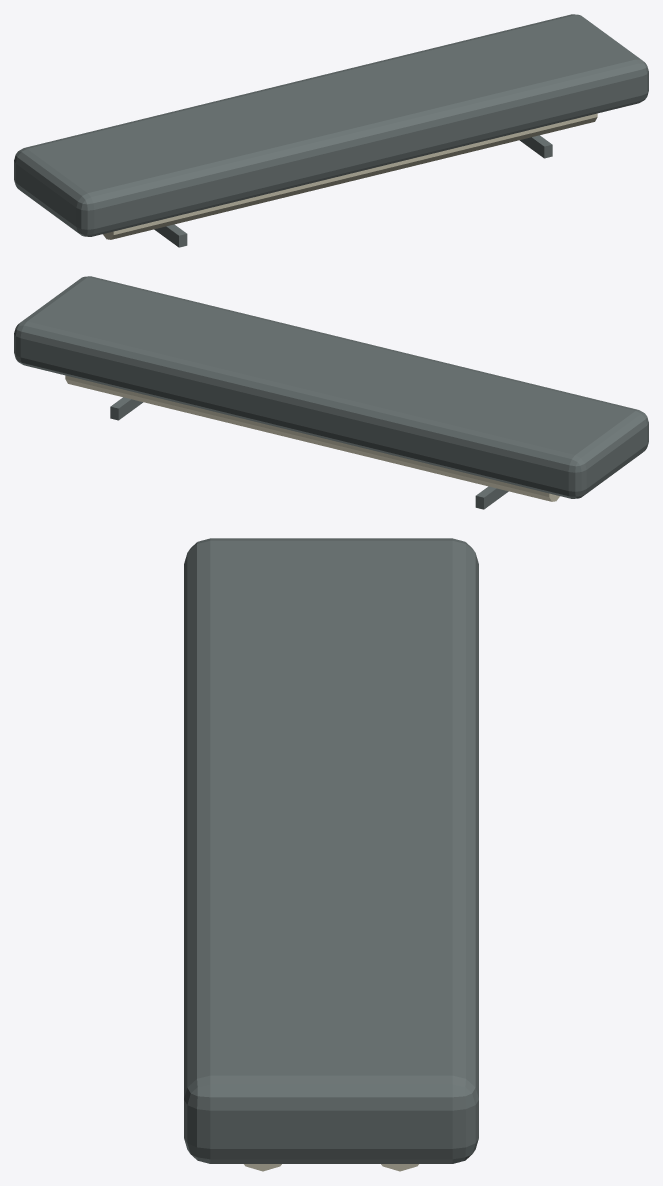
The model's file is lamp.glb.
3 views of the same model, one above another, from view 1: azimuth 30°, elevation 25°; view 2: azimuth 150°, elevation 25°; view 3: azimuth 270°, elevation 25° (orthographic). The views are drawn at different scales.
Parts seen in each view (by area): view 1: lamp; view 2: lamp; view 3: lamp.
Boxes of the visible parts, box(x1,y1,x2,y2) form: lamp: box(14, 14, 648, 247); lamp: box(14, 276, 648, 509); lamp: box(184, 538, 478, 1171).
Bounding box in the file's own units: 1.25 × 0.1525 × 0.28.
